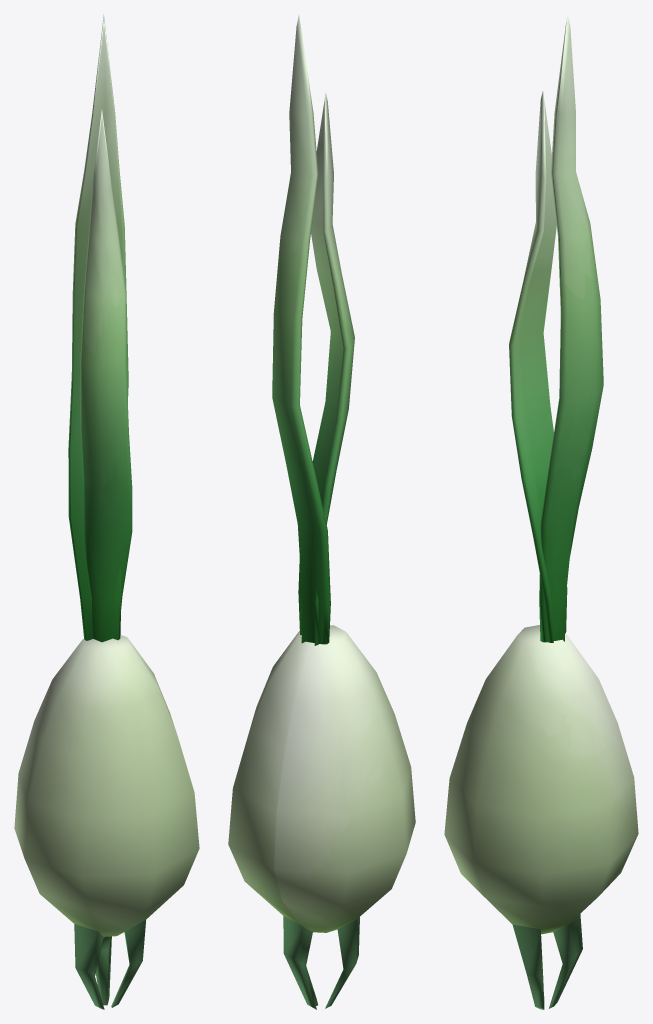
File: Veg_onion_S.fbx
3 views of the same model, side by side, from view 1: azimuth 30°, elevation 25°; view 2: azimuth 150°, elevation 25°; view 3: azimuth 270°, elevation 25° (orthographic).
Parts seen in each view (by area): view 1: cebolla S.001; view 2: cebolla S.001; view 3: cebolla S.001.
Part boxes in pixels (x1,y1,x2,y2): cebolla S.001: (14,14,199,1009); cebolla S.001: (228,15,415,1009); cebolla S.001: (444,15,638,1009).
Size of the model in its own units: 2.22 by 2.22 by 12.61.
